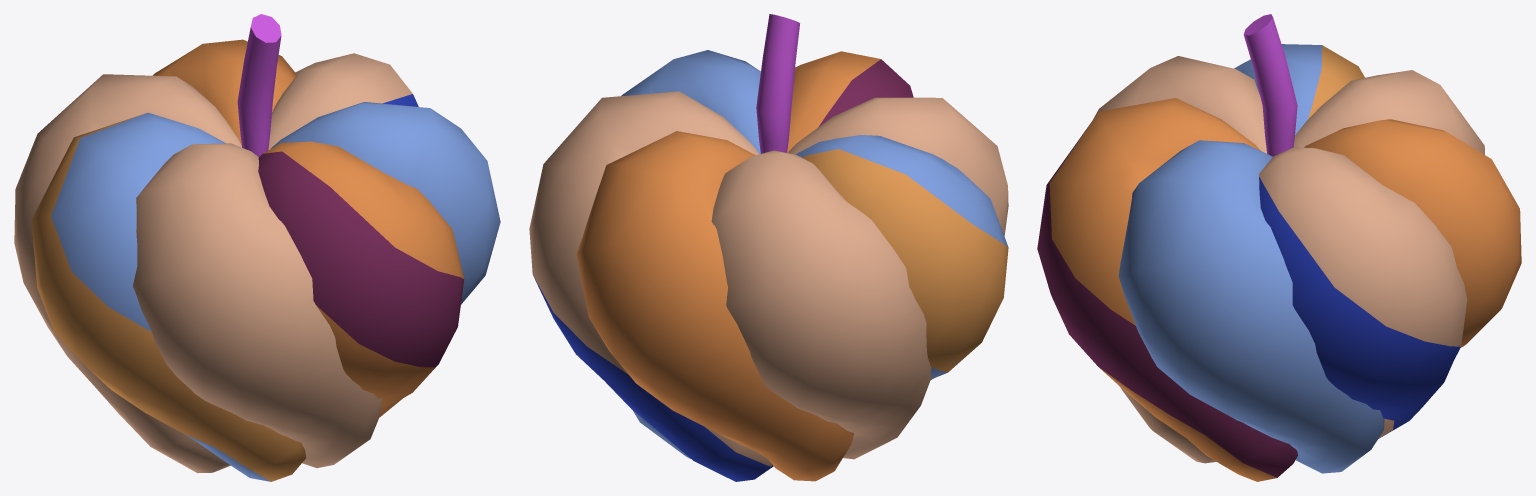
Rendered from Apple.fbx.
3 views of the same model, side by side, from view 1: azimuth 30°, elevation 25°; view 2: azimuth 150°, elevation 25°; view 3: azimuth 270°, elevation 25° (orthographic).
Visible parts, largest first — view 1: FanatasyApple; view 2: FanatasyApple; view 3: FanatasyApple.
Boxes of the visible parts, <box> form: FanatasyApple: <box>14,14,500,481</box>; FanatasyApple: <box>529,14,1008,481</box>; FanatasyApple: <box>1037,14,1521,481</box>.
Size of the model in its own units: 0.1629 by 0.1612 by 0.1645.
